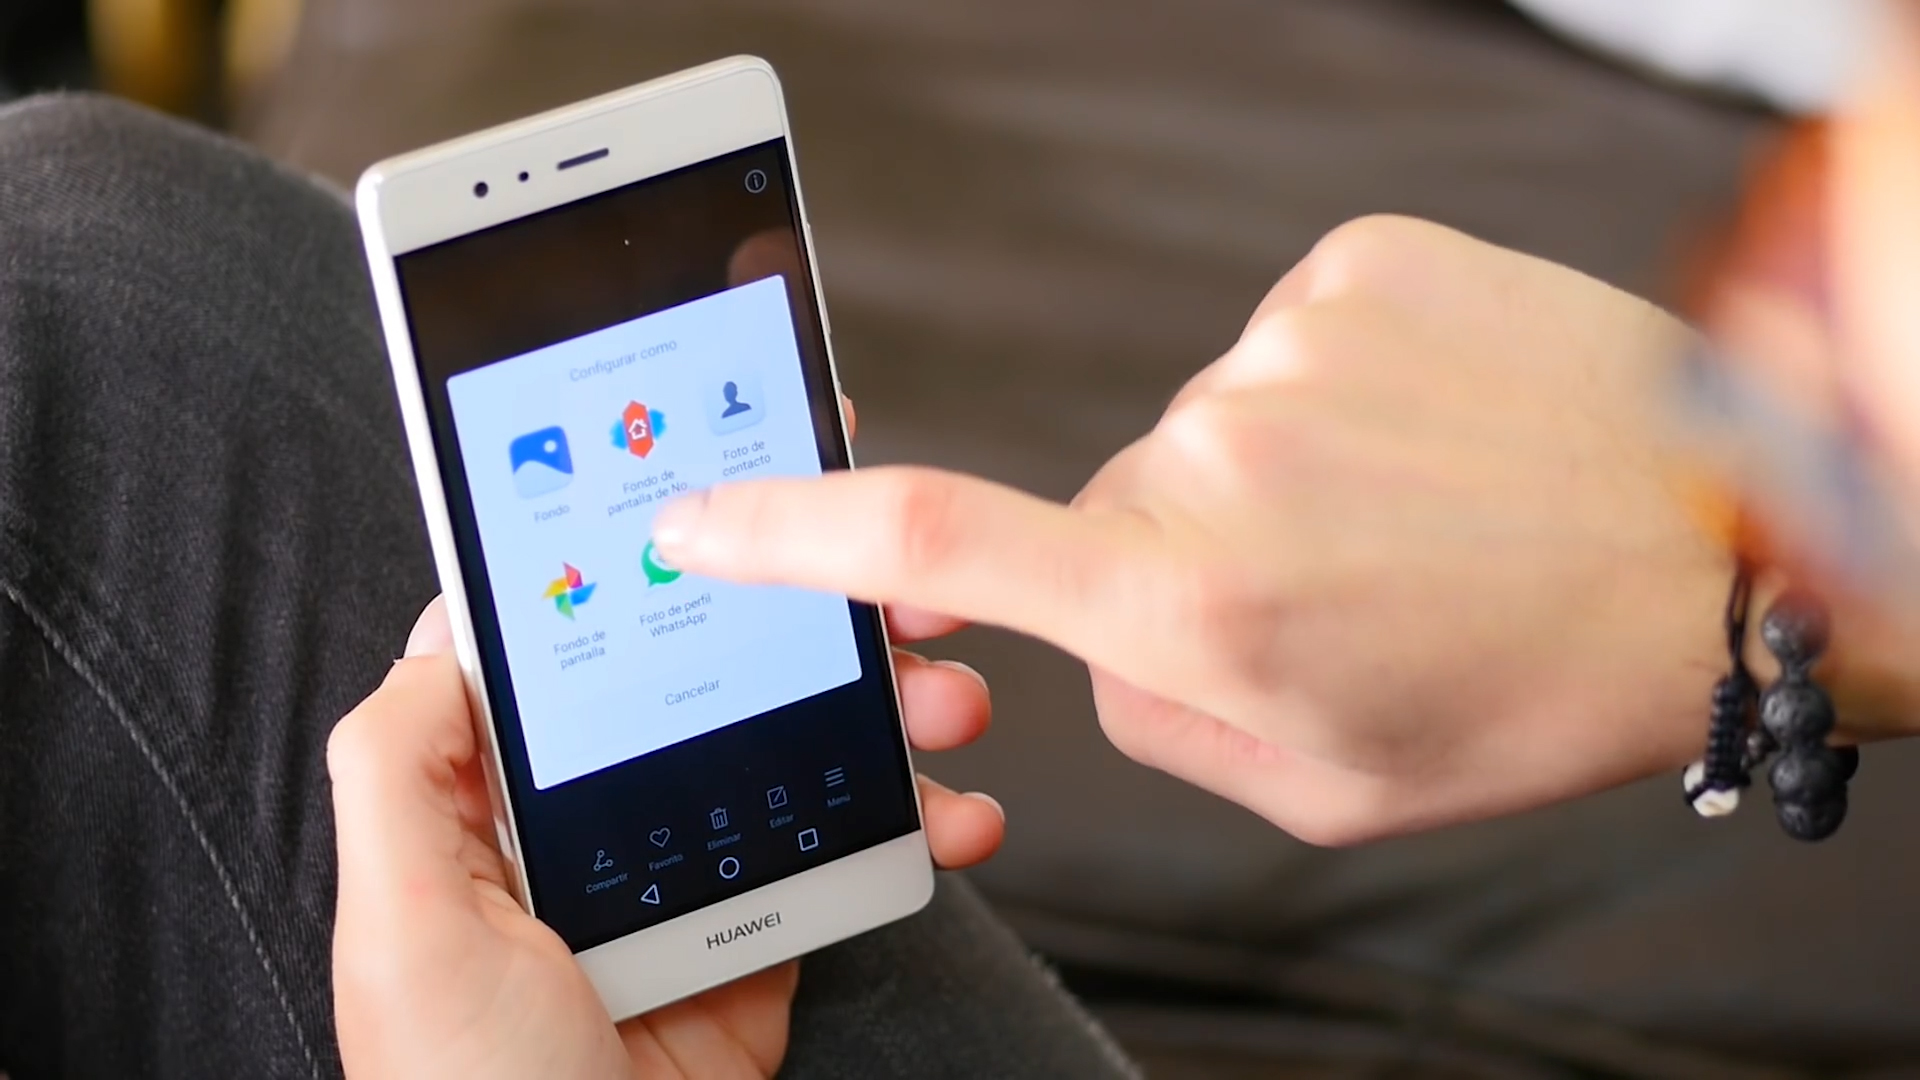smartphone: (349, 45, 940, 1036)
